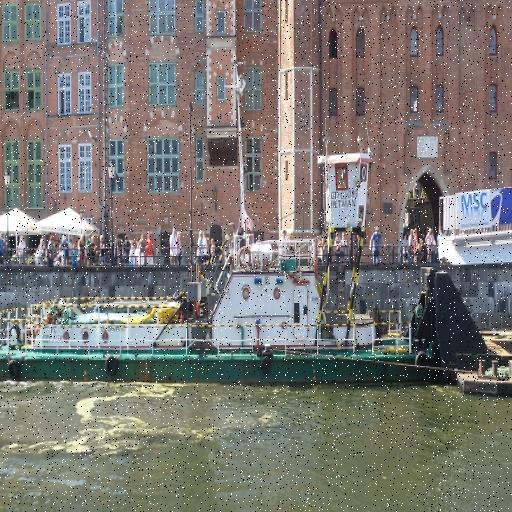tugboat: (1, 147, 462, 397)
